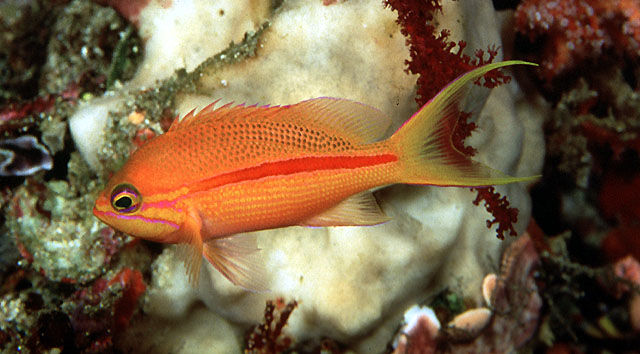fish: (93, 60, 540, 292)
